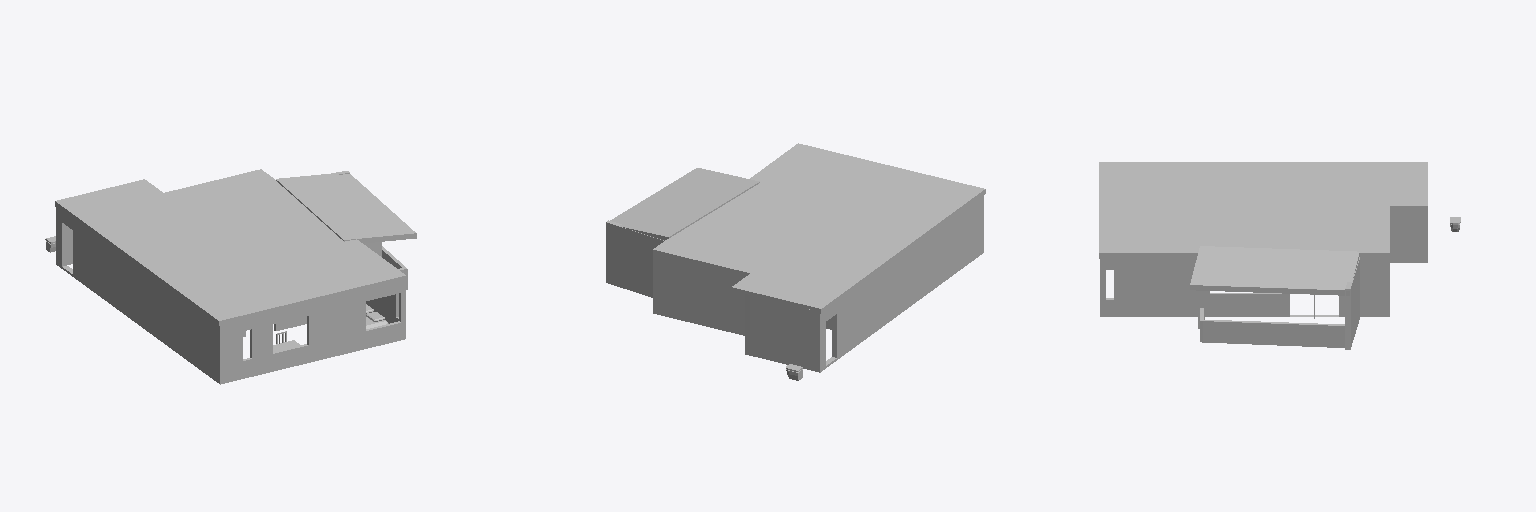
File: OttoBrandt_19-01-2019_sink-shrunk.obj
The picture shows the model from 3 angles: view 1: azimuth 30°, elevation 25°; view 2: azimuth 150°, elevation 25°; view 3: azimuth 270°, elevation 25°; orthographic projection.
Visible parts, largest first — view 1: roof_Cube.002, wall_outer_Cube; view 2: roof_Cube.002, wall_outer_Cube; view 3: roof_Cube.002, wall_outer_Cube.
Part boxes in pixels (x1,y1,x2,y2): roof_Cube.002: (55, 169, 416, 325); wall_outer_Cube: (56, 171, 407, 384); roof_Cube.002: (610, 143, 985, 313); wall_outer_Cube: (606, 196, 983, 372); roof_Cube.002: (1099, 162, 1427, 295); wall_outer_Cube: (1100, 211, 1427, 349).
Bounding box in the file's own units: 10.97 × 2.76 × 13.5.